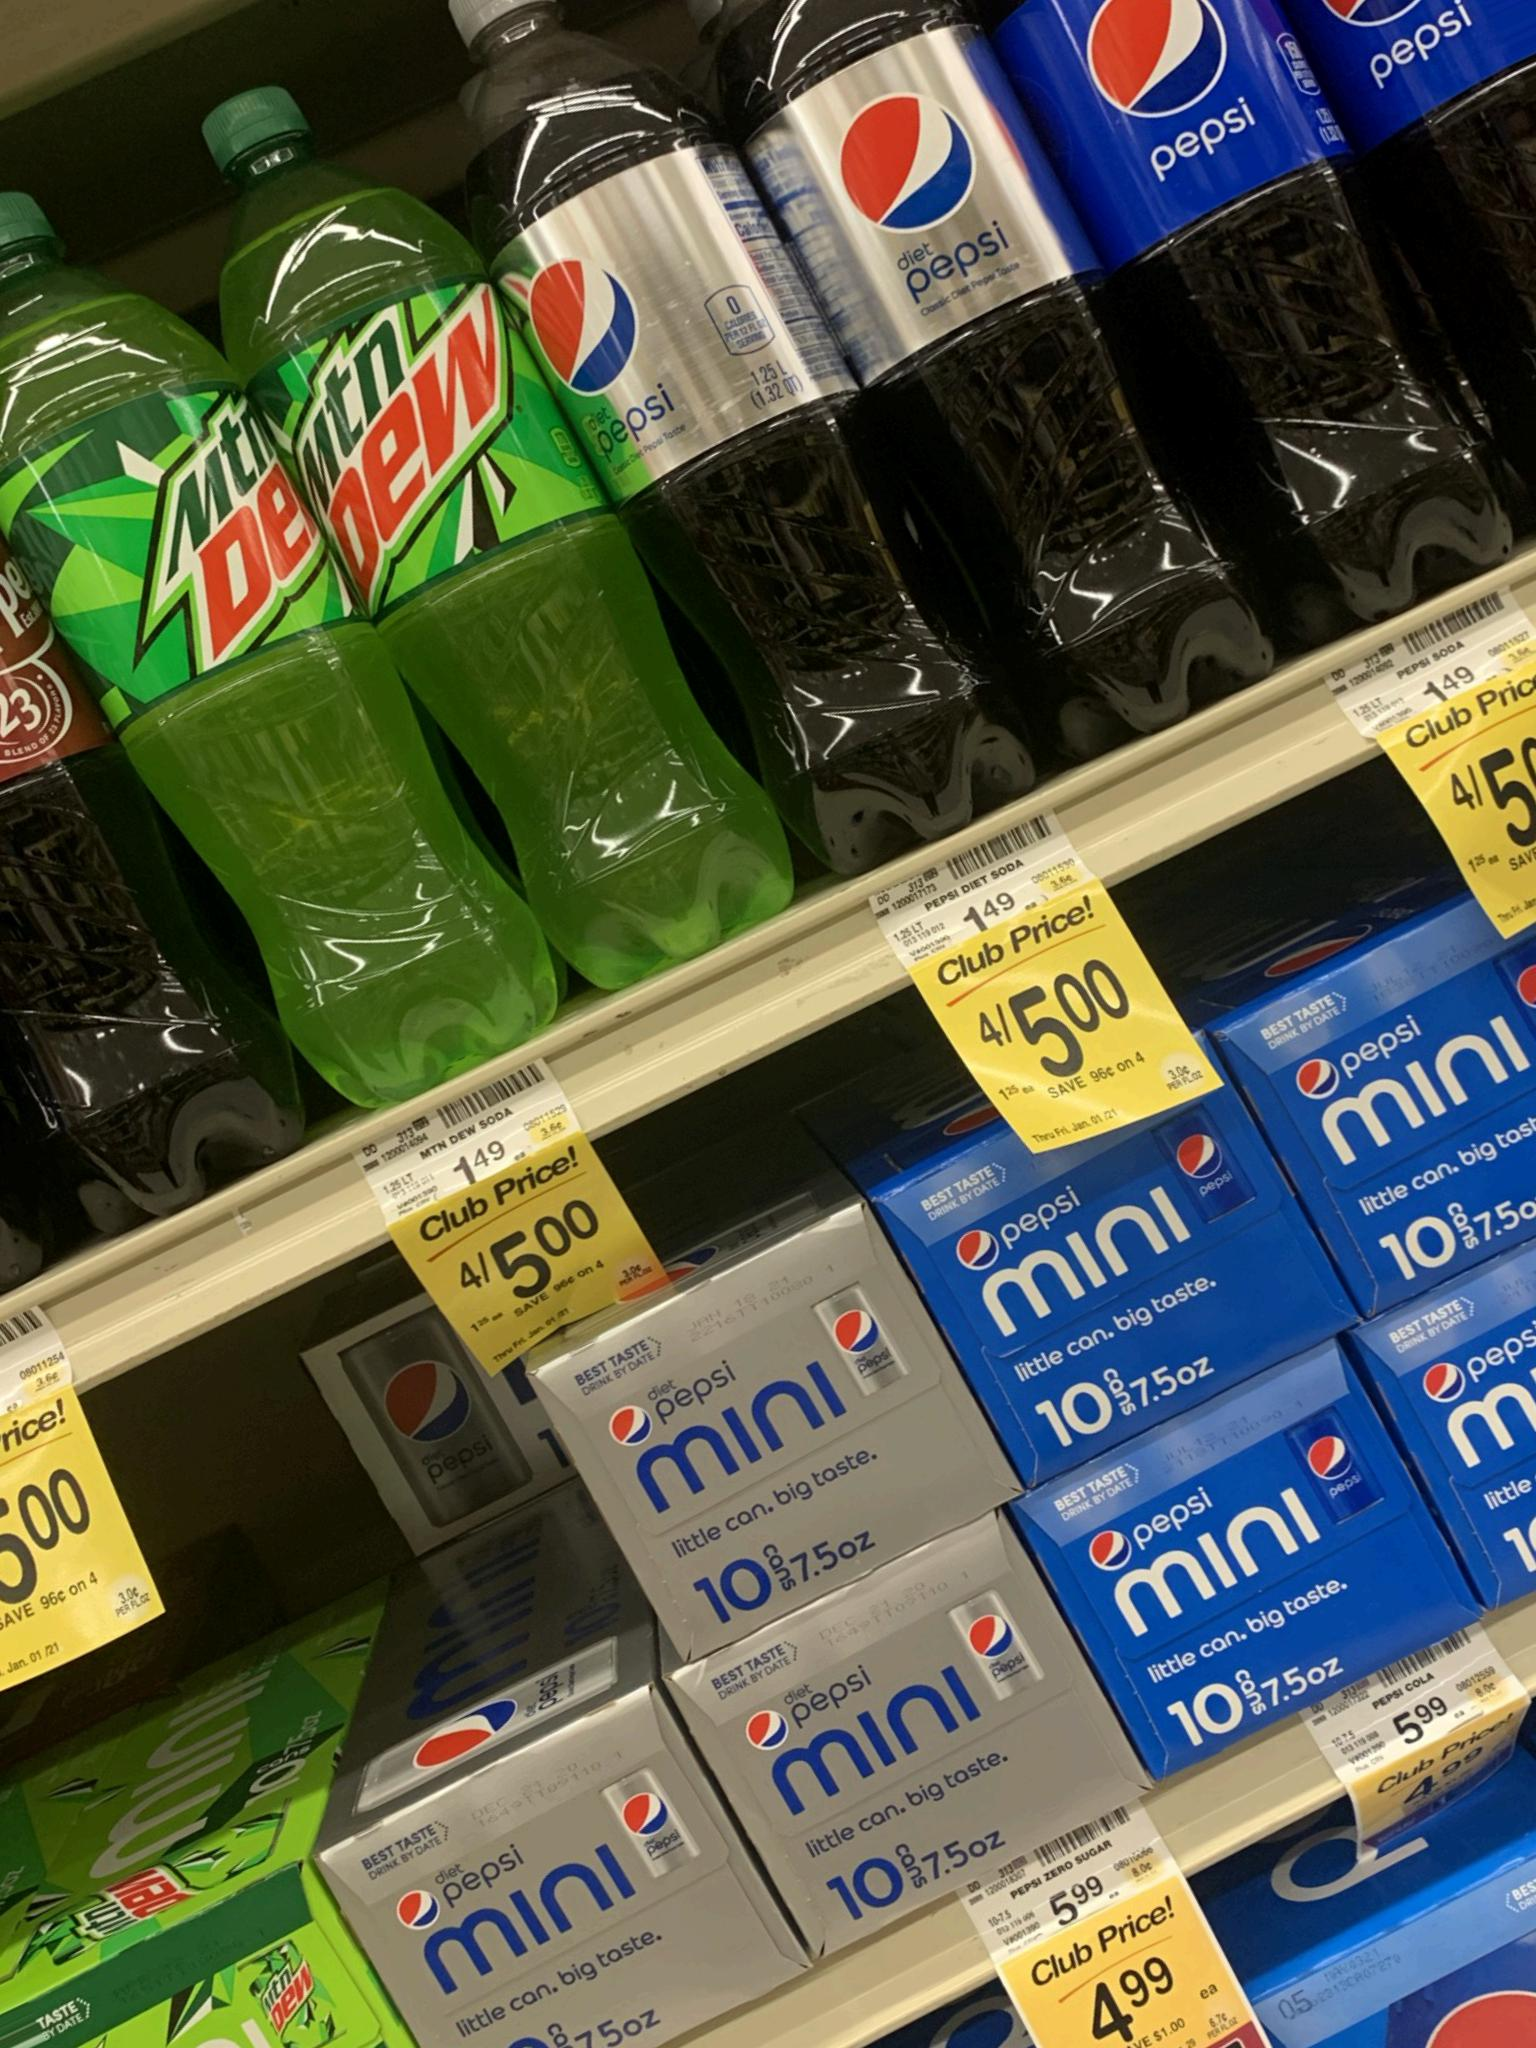soda: (773, 1511, 1078, 1938), (1089, 1335, 1397, 1748), (954, 1034, 1260, 1438), (603, 1213, 883, 1625), (382, 1682, 686, 2048)
